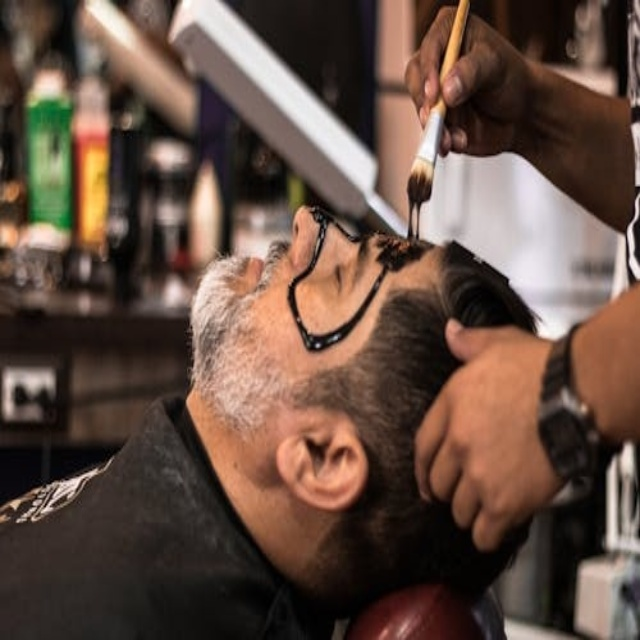Gafas: (286, 205, 394, 353)
Sin_gafas: (328, 231, 367, 302)
Sin_guantes: (412, 300, 600, 550), (406, 6, 526, 167)
Sin_mascara: (202, 238, 279, 382)
